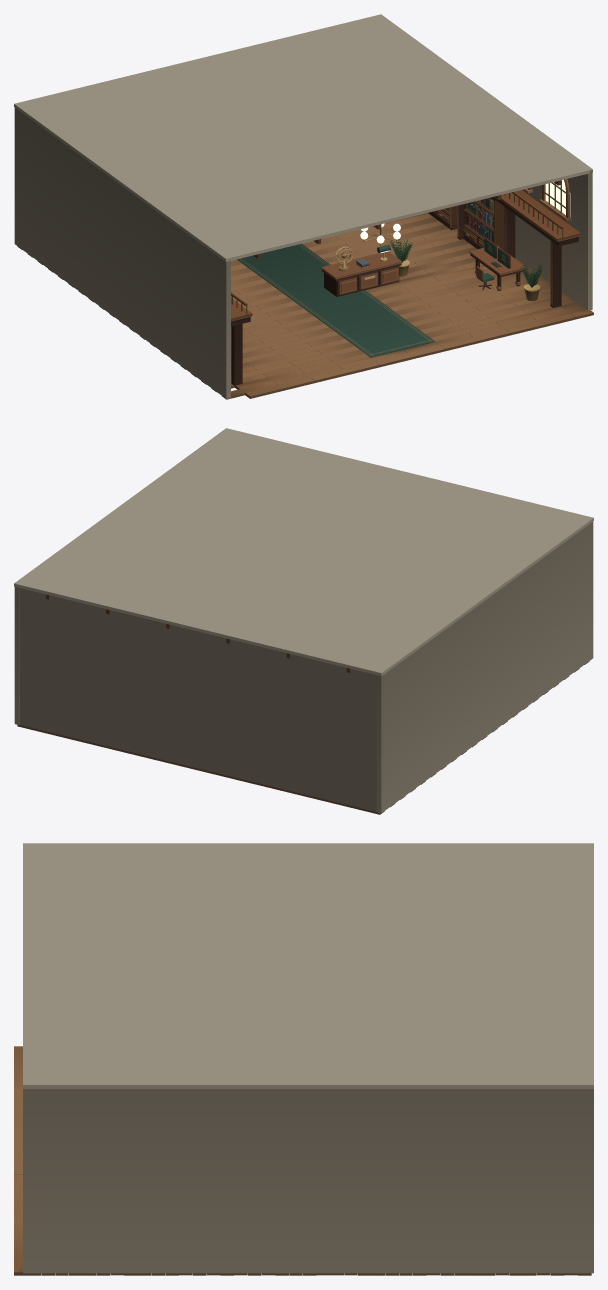
File: hall.glb
3 renders of one model, top to bottom at view 1: azimuth 30°, elevation 25°; view 2: azimuth 150°, elevation 25°; view 3: azimuth 270°, elevation 25°, orthographic. The views are drawn at different scales.
Parts seen in each view (by area): view 1: Hall · Limewashed plaster, Hall · Warm limestone, Hall · Library green wool, Hall · Parquet 2, Hall · Parquet 1, Hall · Oiled quarter-sawn oak, Hall · Parquet 4, Hall · Parquet 0, Hall · Walnut joinery, Hall · Parquet 3, Hall · Carved oak molding, Hall · Antiqued bronze (+3 smaller); view 2: Hall · Warm limestone, Hall · Limewashed plaster; view 3: Hall · Limewashed plaster, Hall · Warm limestone, Hall · Parquet 1, Hall · Parquet 2, Hall · Parquet 0.
Boxes of the visible parts, bbox=[...] form: Hall · Limewashed plaster: bbox=[14, 14, 592, 261]; Hall · Warm limestone: bbox=[14, 108, 592, 398]; Hall · Library green wool: bbox=[237, 239, 508, 357]; Hall · Parquet 2: bbox=[78, 213, 580, 399]; Hall · Parquet 1: bbox=[17, 228, 575, 392]; Hall · Oiled quarter-sawn oak: bbox=[231, 180, 580, 319]; Hall · Parquet 4: bbox=[37, 213, 575, 352]; Hall · Parquet 0: bbox=[58, 232, 593, 398]; Hall · Walnut joinery: bbox=[231, 197, 578, 385]; Hall · Parquet 3: bbox=[129, 217, 564, 377]; Hall · Carved oak molding: bbox=[231, 179, 580, 321]; Hall · Antiqued bronze: bbox=[231, 180, 566, 315]; Hall · Warm limestone: bbox=[14, 522, 593, 813]; Hall · Limewashed plaster: bbox=[14, 428, 593, 676]; Hall · Limewashed plaster: bbox=[23, 843, 593, 1088]; Hall · Warm limestone: bbox=[23, 1089, 593, 1273]; Hall · Parquet 1: bbox=[14, 1131, 577, 1275]; Hall · Parquet 2: bbox=[14, 1089, 481, 1275]; Hall · Parquet 0: bbox=[14, 1046, 564, 1275].
Bounding box in the file's own units: 22 × 8.17 × 22.34.
29 materials, 8 textured.
